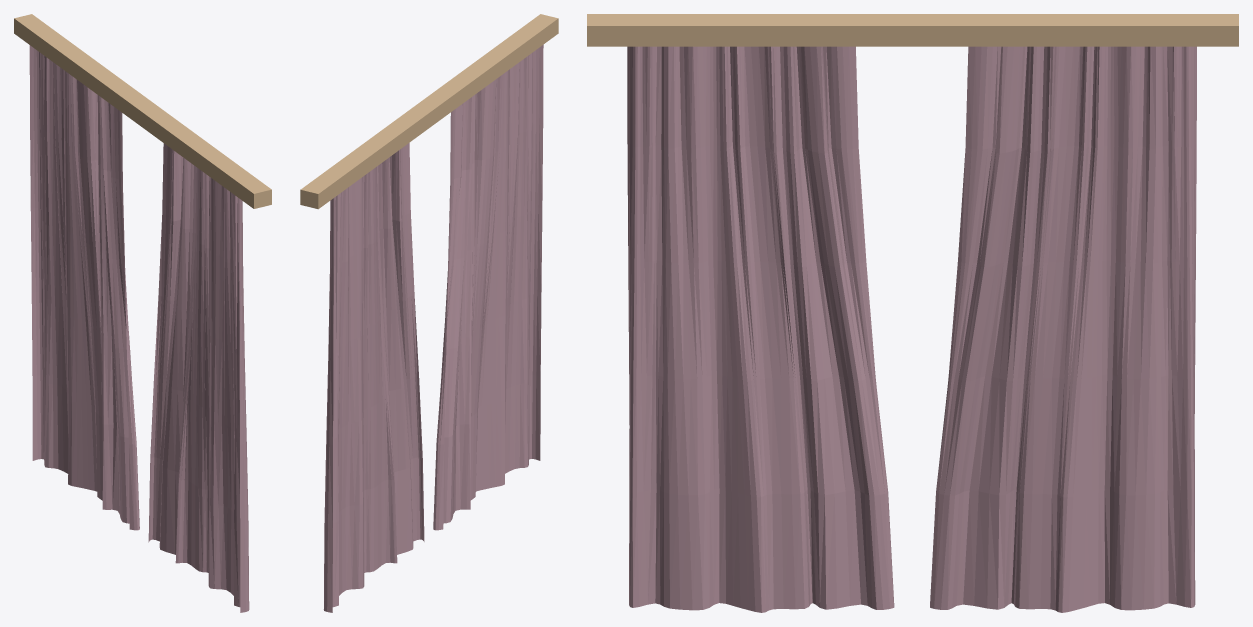
The picture shows the model from 3 angles, left to right: view 1: azimuth 30°, elevation 25°; view 2: azimuth 150°, elevation 25°; view 3: azimuth 270°, elevation 25°; orthographic projection. The views are drawn at different scales.
Visible parts, largest first — view 1: Mesh1_curtain_00_1_skp94_1_Model; view 2: Mesh1_curtain_00_1_skp94_1_Model; view 3: Mesh1_curtain_00_1_skp94_1_Model.
Boxes of the visible parts, bbox=[...] form: Mesh1_curtain_00_1_skp94_1_Model: bbox=[14, 14, 271, 612]; Mesh1_curtain_00_1_skp94_1_Model: bbox=[300, 14, 558, 612]; Mesh1_curtain_00_1_skp94_1_Model: bbox=[587, 14, 1238, 612].
Size of the model in its own units: 0.0474 by 0.9918 by 1.
